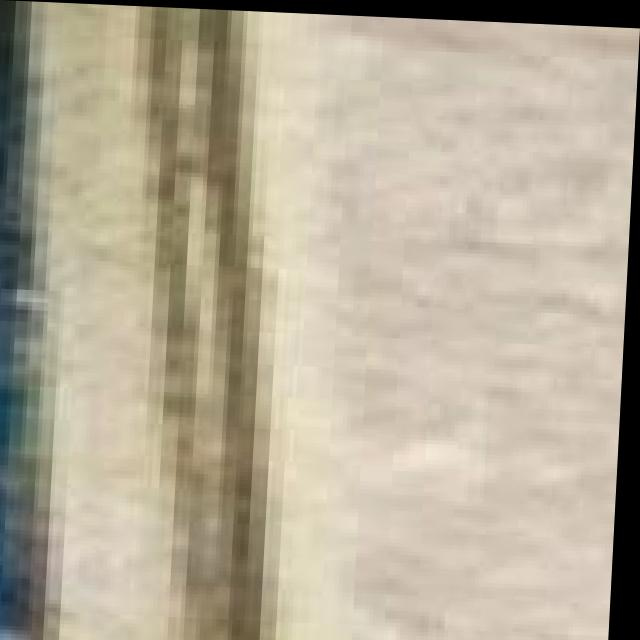clock: (34, 2, 640, 640)
